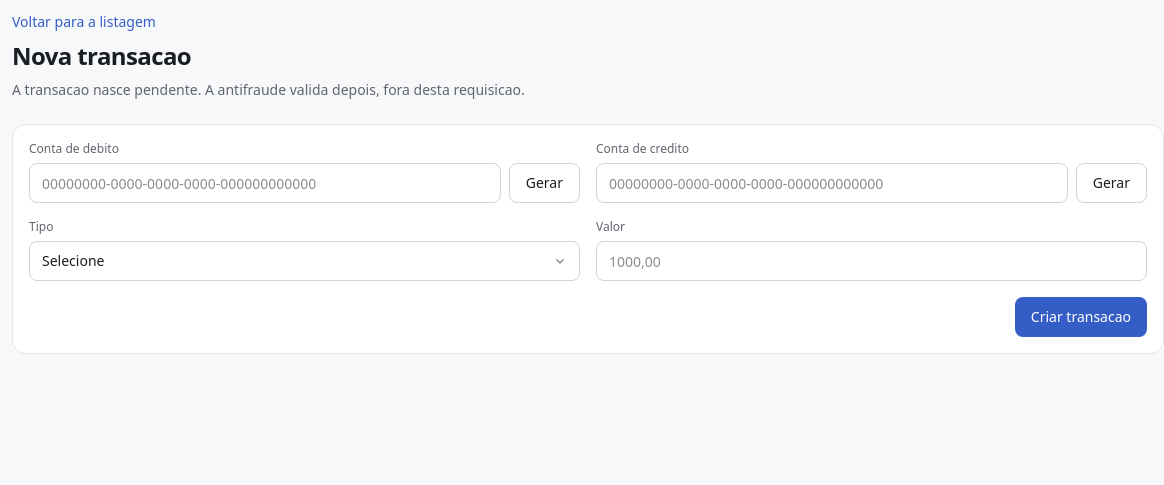
NewTransactionView › recusa o envio no cliente e aponta o campo errado
Type "conta-1" into the field labelled "Conta de debito" at (265, 183), box [29,163,501,203]
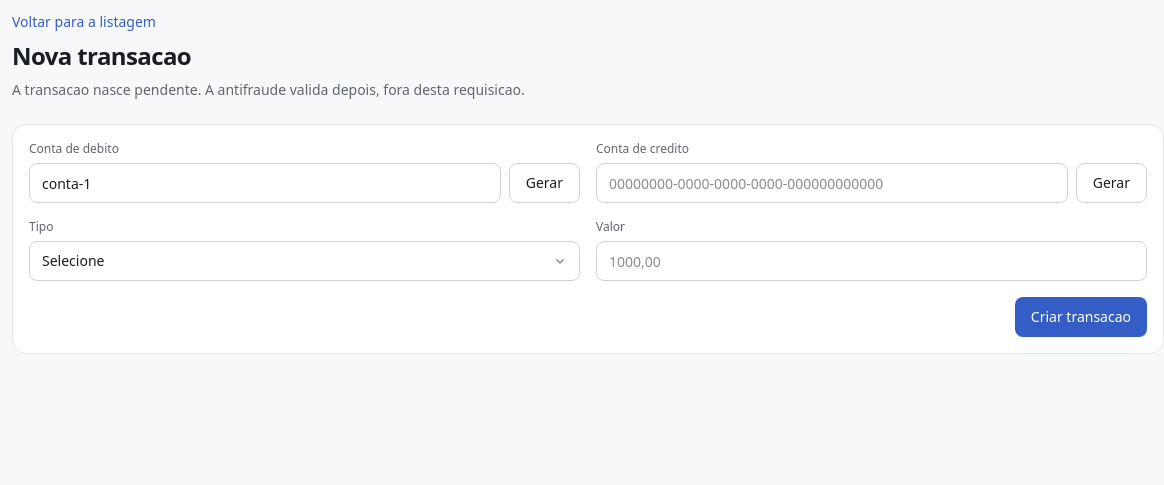
Click the button "Criar transacao" at (1081, 317), box [1015,297,1147,337]
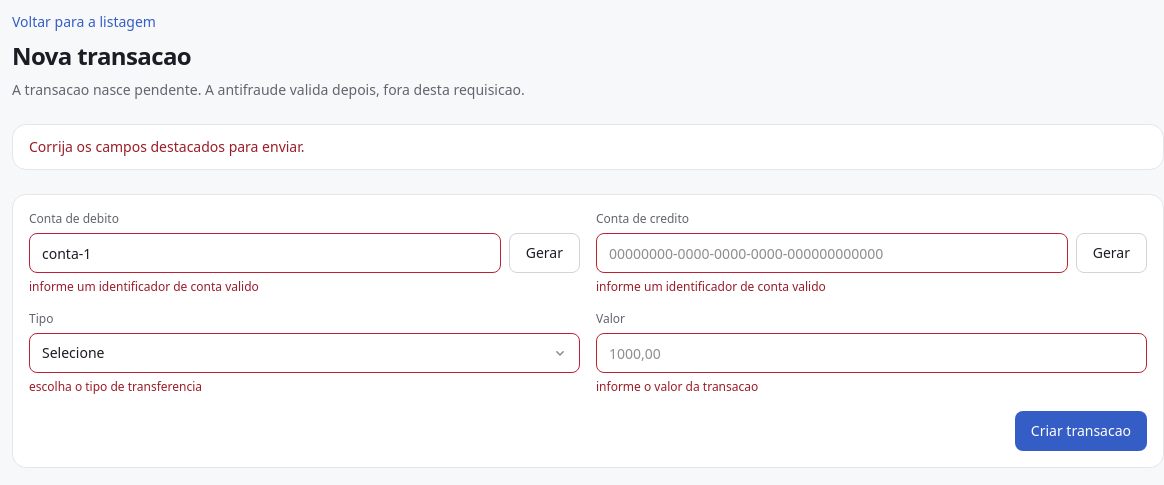
Check: the text "informe um identificador de conta valido" is shown 2 times, box [29,278,259,295]; [596,278,826,295]
Check: the text "escolha o tipo de transferencia" is shown, box [29,378,202,395]
Check: the text "informe o valor da transacao" is shown, box [596,378,758,395]
